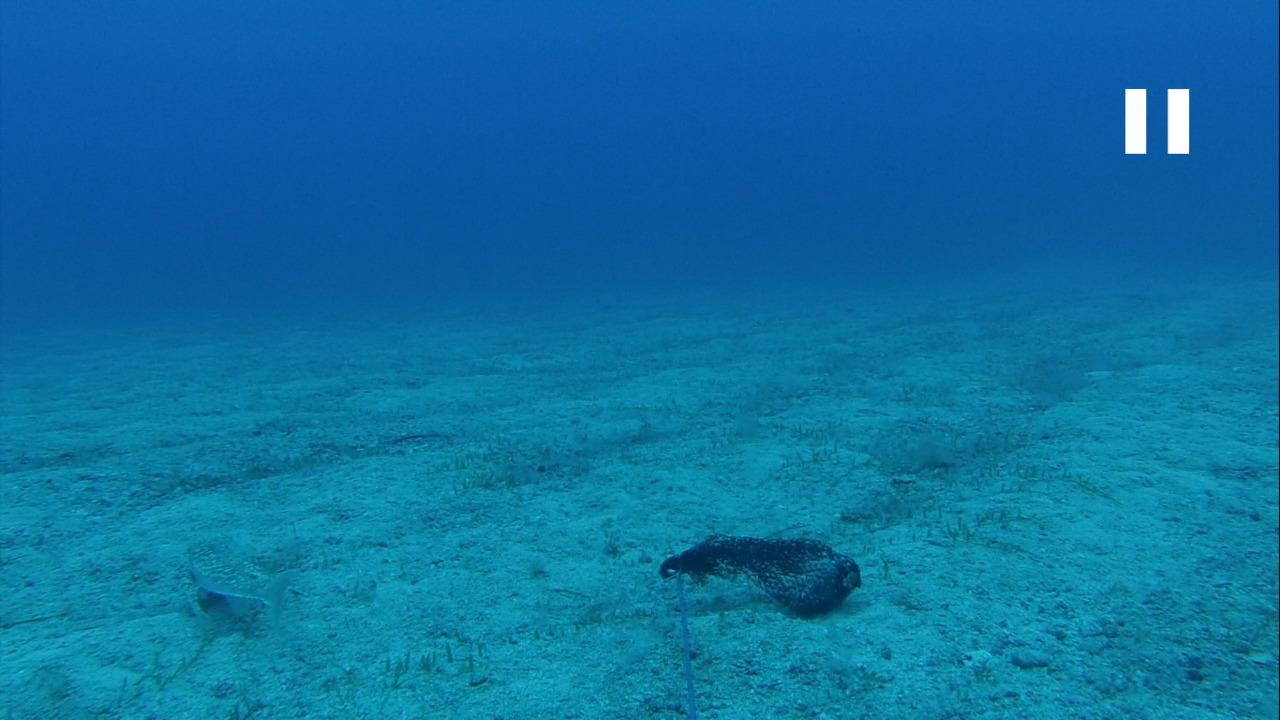dactylopterus: (164, 521, 306, 629)
